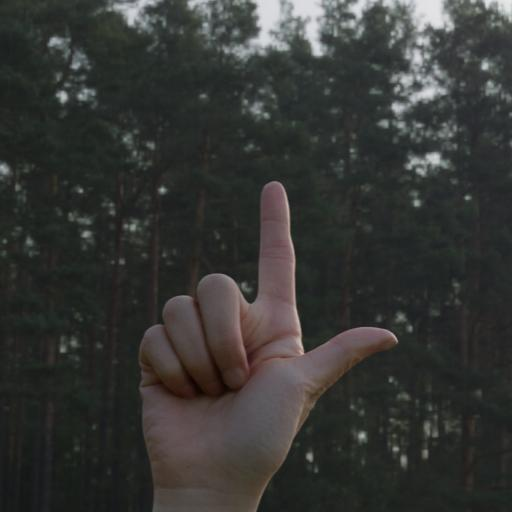L: (115, 169, 410, 481)
